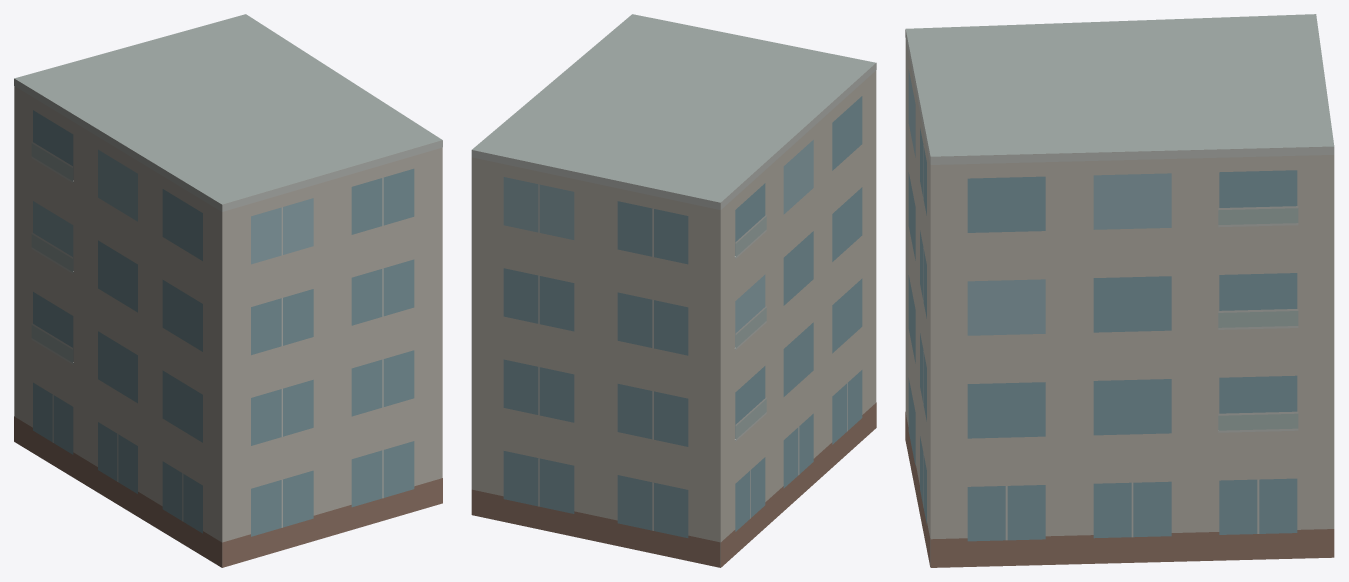
File: survey-upis-32769490.glb
3 renders of one model, left to right at view 1: azimuth 30°, elevation 25°; view 2: azimuth 150°, elevation 25°; view 3: azimuth 270°, elevation 25°, orthographic. The views are drawn at different scales.
Parts seen in each view (by area): view 1: survey-upis-32769490.tmp; view 2: survey-upis-32769490.tmp; view 3: survey-upis-32769490.tmp.
Part boxes in pixels (left/top/right/bottom): survey-upis-32769490.tmp: left=14, top=14, right=442, bottom=567; survey-upis-32769490.tmp: left=471, top=14, right=876, bottom=567; survey-upis-32769490.tmp: left=905, top=14, right=1334, bottom=567.
Bounding box in the file's own units: 8.94 × 12 × 11.35.
